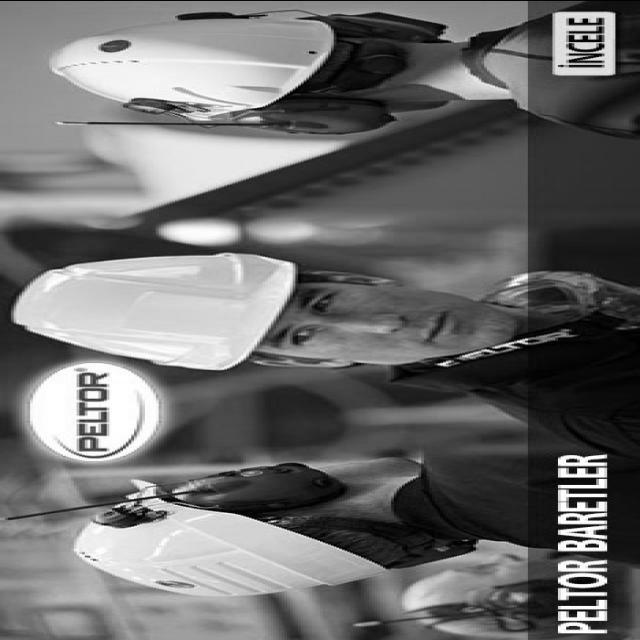construction helmet: (14, 252, 295, 370), (49, 14, 342, 120), (77, 496, 388, 594)
